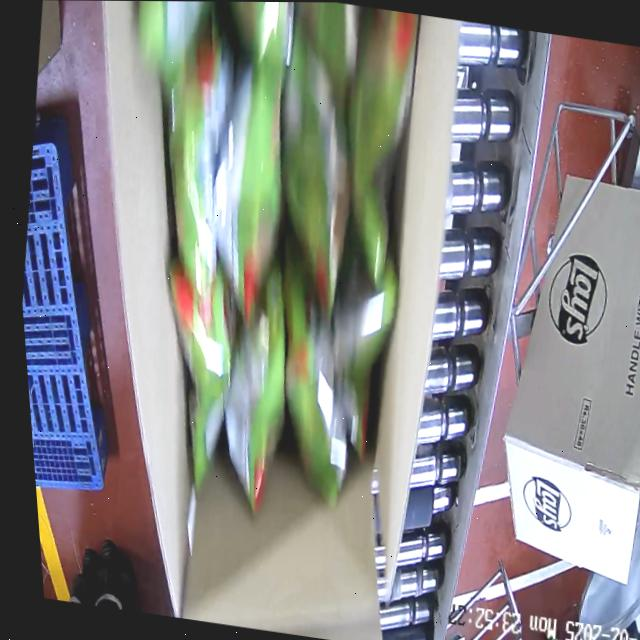YOGURT_HERB: (96, 1, 436, 497)
